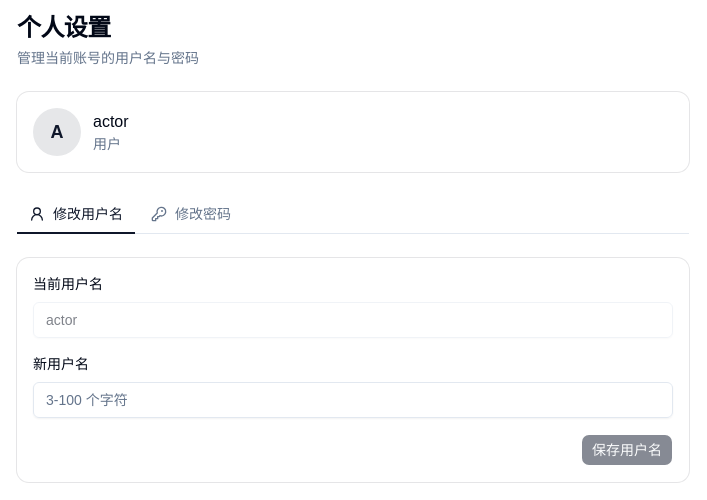
Test: ProfilePage — self-service username & password › keeps the username save button disabled until the username differs
expect the field showing "actor" is shown: met, box [33, 302, 673, 338]
expect the button "保存用户名" is disabled: met, box [581, 434, 673, 466]
Same username → still disabled
Type "actor" into the field with id "new-username".
click(353, 400); type("actor")  # box [33, 382, 673, 418]
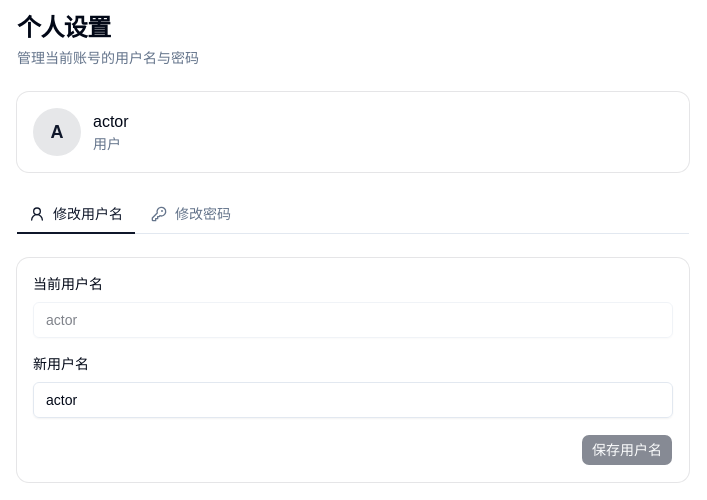
expect the button "保存用户名" is disabled: met, box [581, 434, 673, 466]
Replace the text in the field with id "new-username" with "renamed" at (353, 400), box [33, 382, 673, 418]
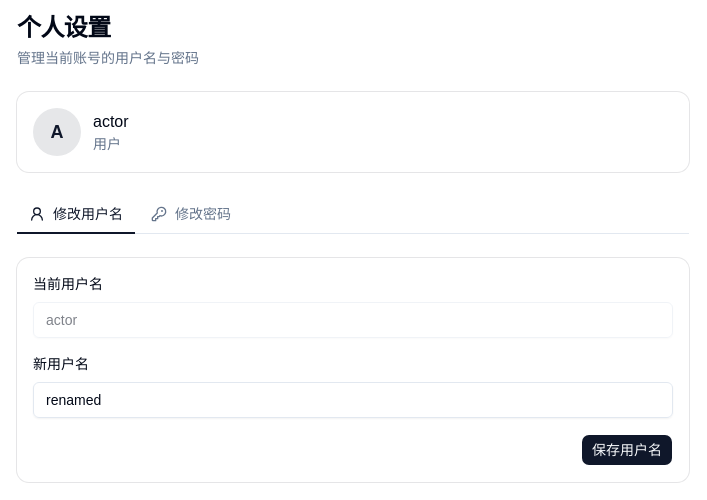
expect the button "保存用户名" is enabled: met, box [581, 434, 673, 466]
